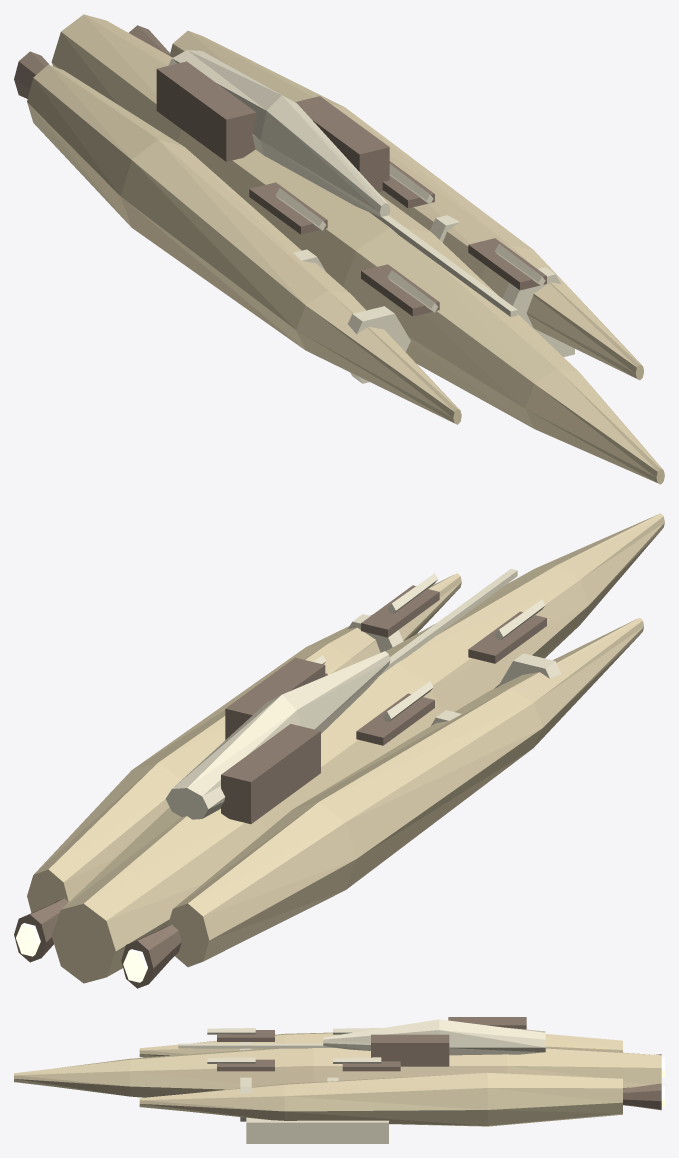
3 renders of one model, top to bottom at view 1: azimuth 30°, elevation 25°; view 2: azimuth 150°, elevation 25°; view 3: azimuth 270°, elevation 25°, orthographic. The views are drawn at different scales.
Size of the model in its own units: 4.9 by 3.09 by 19.95.
